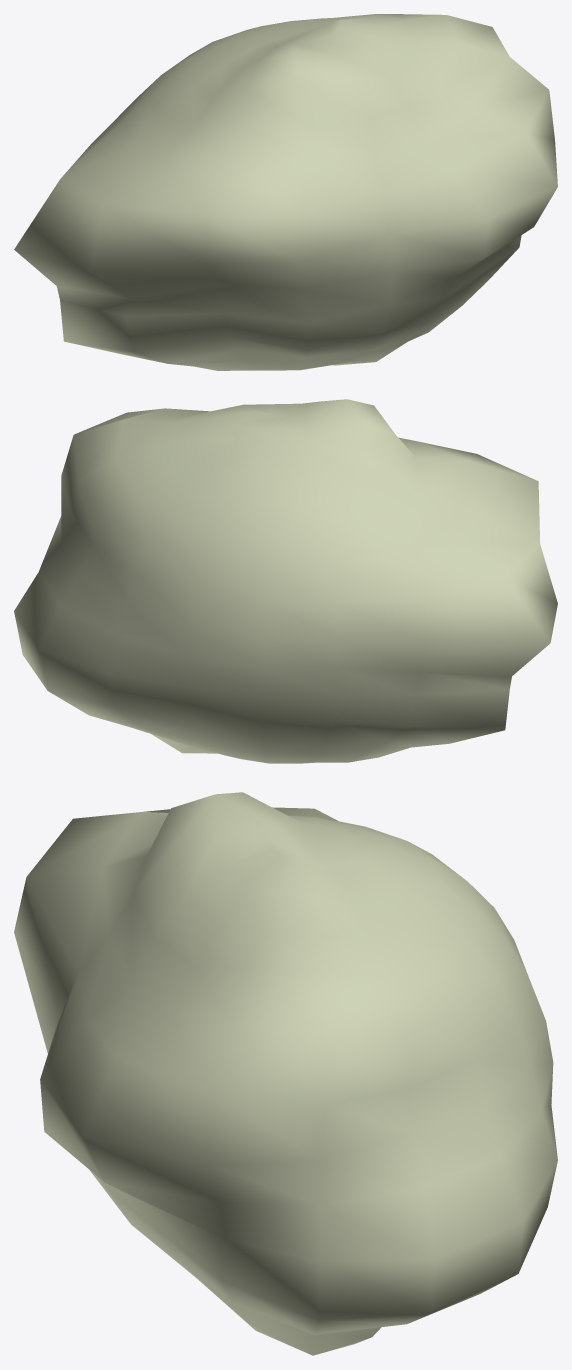
The model's file is mAsteroid1.obj.
The picture shows the model from 3 angles, top to bottom: view 1: azimuth 30°, elevation 25°; view 2: azimuth 150°, elevation 25°; view 3: azimuth 270°, elevation 25°; orthographic projection. The views are drawn at different scales.
Parts seen in each view (by area): view 1: sphere1; view 2: sphere1; view 3: sphere1.
Boxes of the visible parts, x1=… form: sphere1: x1=14, y1=14, x2=557, y2=370; sphere1: x1=14, y1=399, x2=557, y2=763; sphere1: x1=14, y1=792, x2=557, y2=1355.
Bounding box in the file's own units: 8.54 × 5.64 × 5.86.
